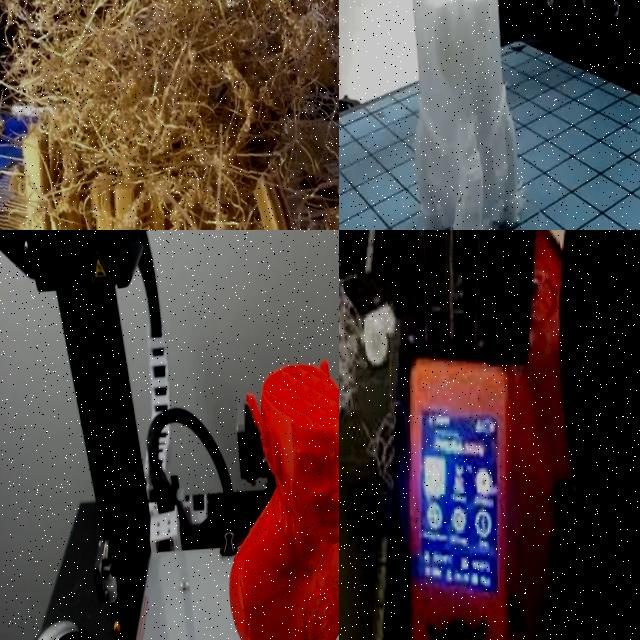spaghetti: (0, 0, 339, 230), (352, 334, 395, 492)
